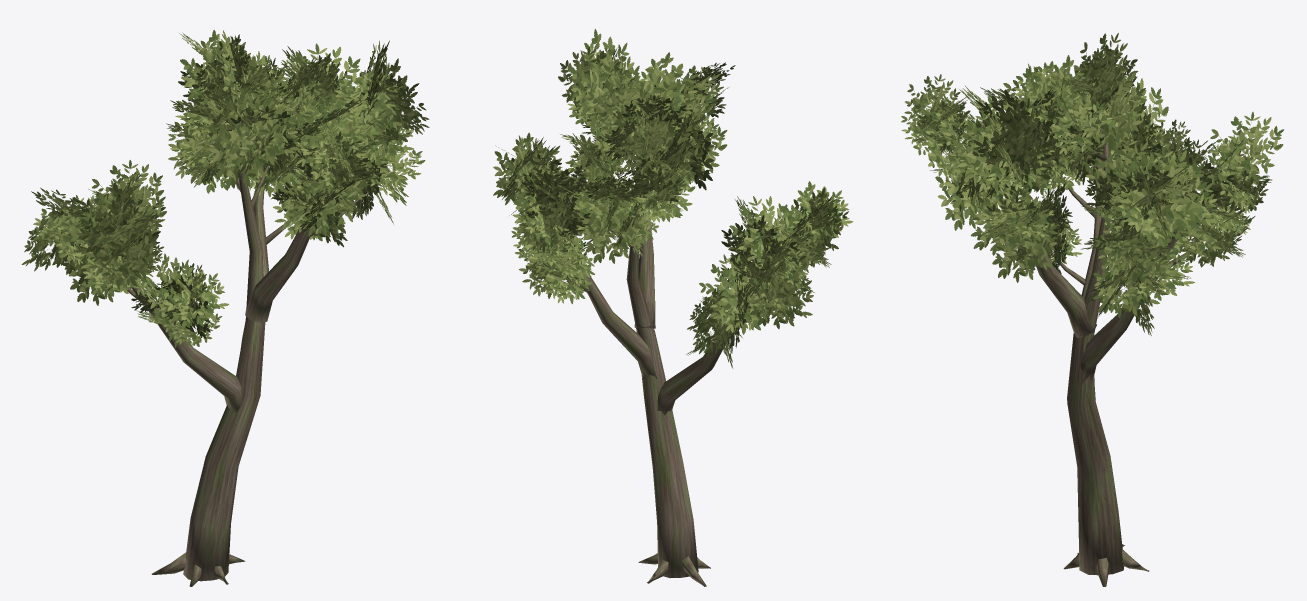
Rendered from tree-oak-2.glb.
The picture shows the model from 3 angles, left to right: view 1: azimuth 30°, elevation 25°; view 2: azimuth 150°, elevation 25°; view 3: azimuth 270°, elevation 25°; orthographic projection. The views are drawn at different scales.
Parts seen in each view (by area): view 1: Broadleaf sprigs, Trunk and branches; view 2: Broadleaf sprigs, Trunk and branches; view 3: Broadleaf sprigs, Trunk and branches.
Part boxes in pixels (x1=…): Broadleaf sprigs: x1=21, y1=30, x2=429, y2=347; Trunk and branches: x1=122, y1=110, x2=359, y2=586; Broadleaf sprigs: x1=493, y1=29, x2=853, y2=368; Trunk and branches: x1=534, y1=155, x2=796, y2=586; Broadleaf sprigs: x1=901, y1=33, x2=1284, y2=335; Trunk and branches: x1=966, y1=129, x2=1226, y2=586.
Bounding box in the file's own units: 5 × 7 × 4.6.
2 materials, 2 textured.
